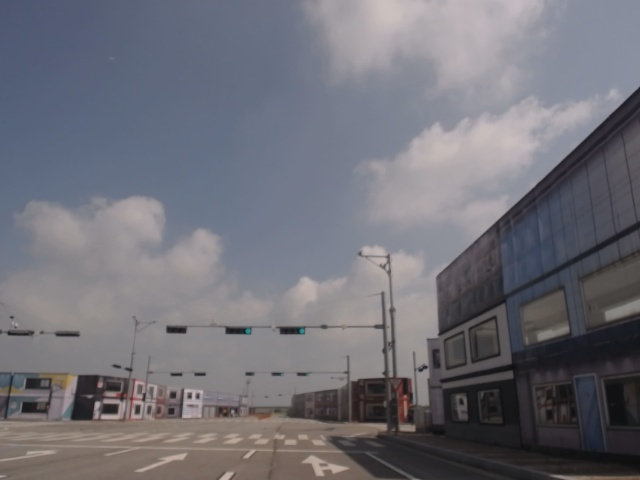straight_green_4: (224, 325, 250, 335), (280, 326, 306, 336)
